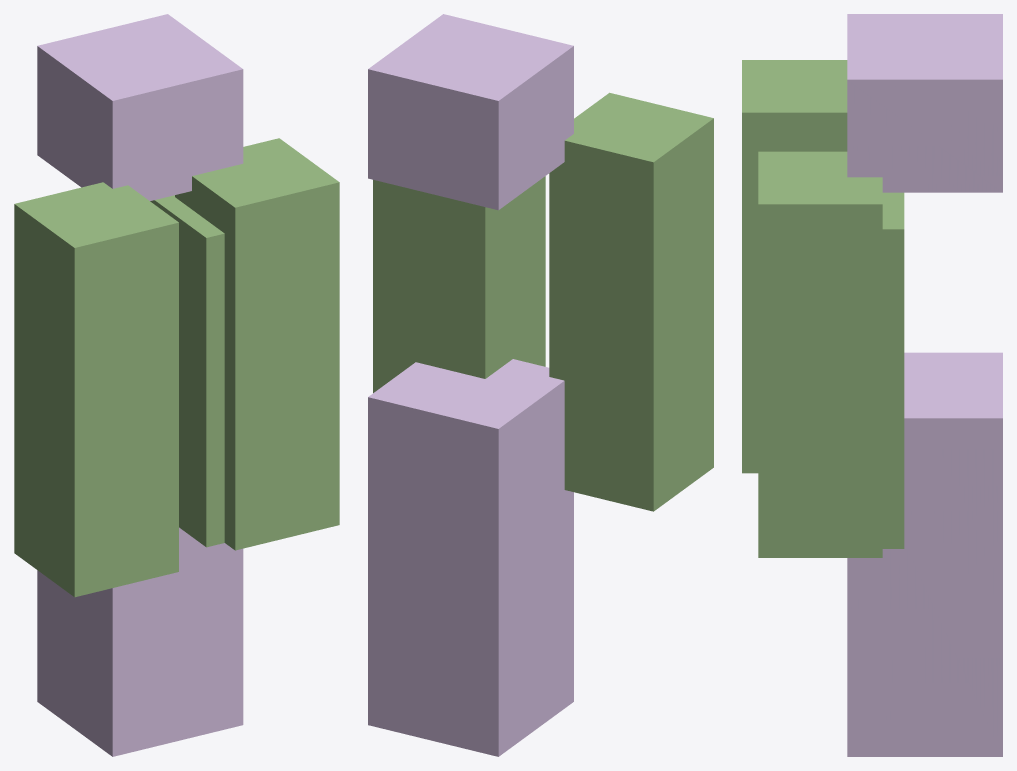
File: Item_Herb_AMF_Dozeleaf_Bundle2.glb
3 views of the same model, side by side, from view 1: azimuth 30°, elevation 25°; view 2: azimuth 150°, elevation 25°; view 3: azimuth 270°, elevation 25° (orthographic). The views are drawn at different scales.
Visible parts, largest first — view 1: Item_Herb_AMF_Dozeleaf_Bundle2; view 2: Item_Herb_AMF_Dozeleaf_Bundle2; view 3: Item_Herb_AMF_Dozeleaf_Bundle2.
Part boxes in pixels (bbox=[...]): Item_Herb_AMF_Dozeleaf_Bundle2: bbox=[14, 14, 339, 756]; Item_Herb_AMF_Dozeleaf_Bundle2: bbox=[368, 14, 713, 756]; Item_Herb_AMF_Dozeleaf_Bundle2: bbox=[742, 14, 1002, 756].
Bounding box in the file's own units: 0.1045 × 0.24 × 0.0838.
